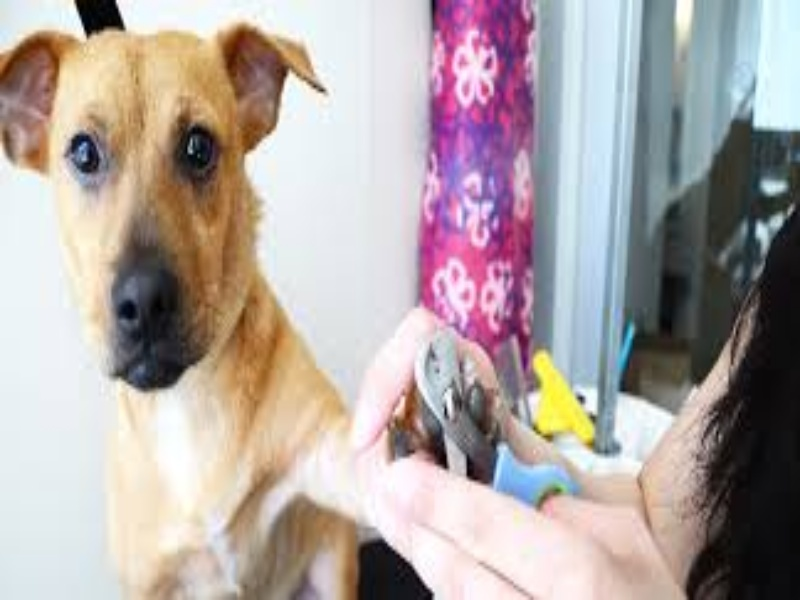dog: (3, 11, 393, 582)
